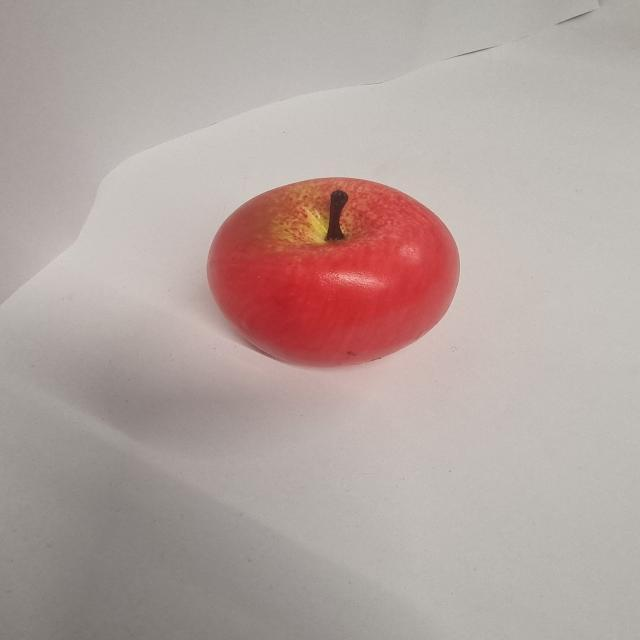apple: (210, 176, 460, 367)
